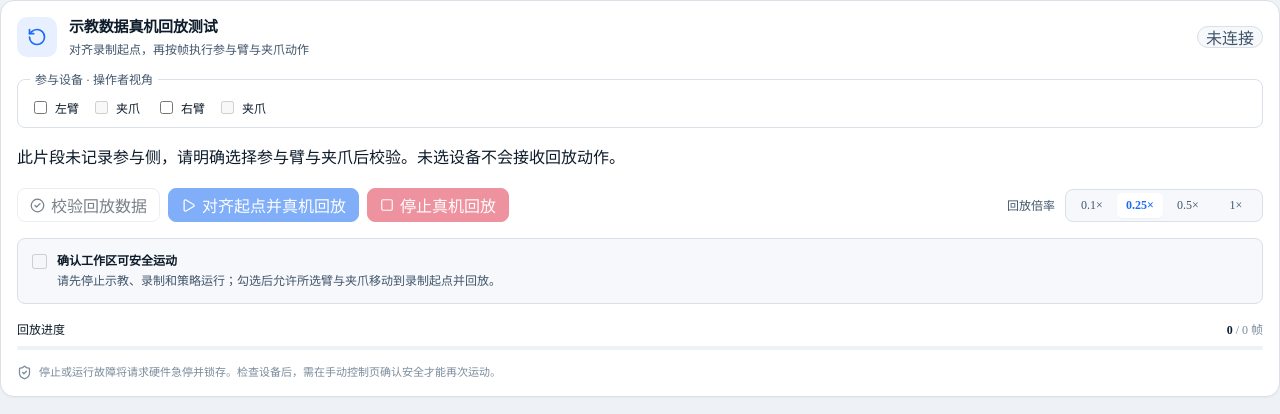
requires explicit legacy selection and resets validation after changing devices
The width and height of the screenshot is (1280, 414).
Expected: the button "校验回放数据" is disabled, x1=17 y1=188 x2=160 y2=222
Step 1. Click the checkbox labelled "左臂" → point(40, 108), box x1=34 y1=101 x2=47 y2=114
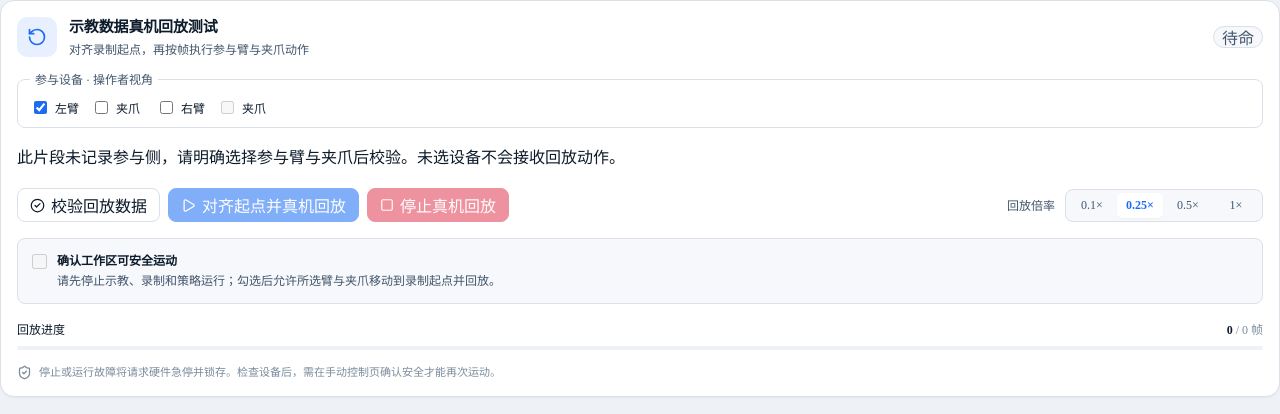
Result: the button "校验回放数据" is enabled
Step 2. Click the button "校验回放数据" → point(88, 205), box x1=17 y1=188 x2=160 y2=222
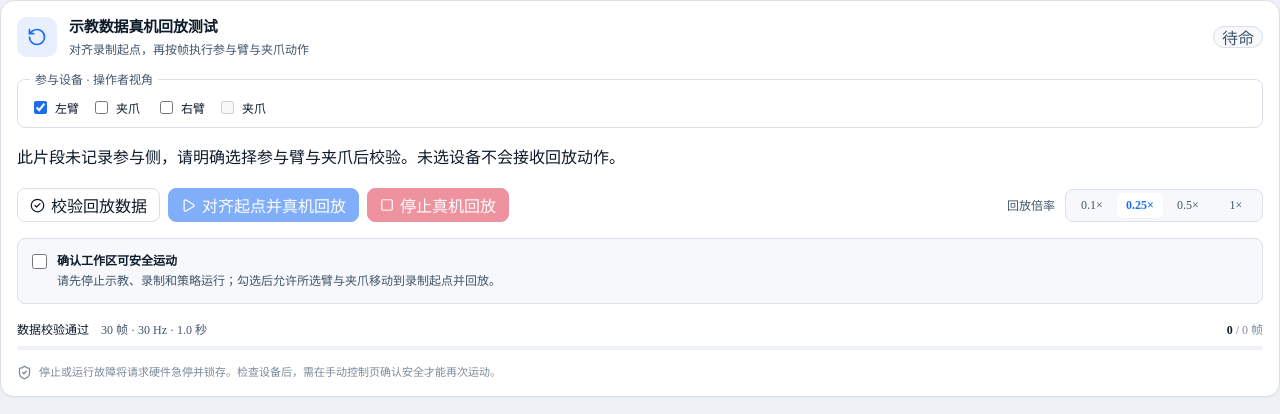
Result: the text "30 帧 · 30 Hz · 1.0 秒" is shown at x1=101 y1=323 x2=207 y2=337
Step 3. Click the checkbox labelled "确认工作区可安全运动 请先停止示教、录制和策略运行；勾选后允许所选臂与夹爪移动到录制起点并回放。" → point(40, 262), box x1=32 y1=254 x2=47 y2=269
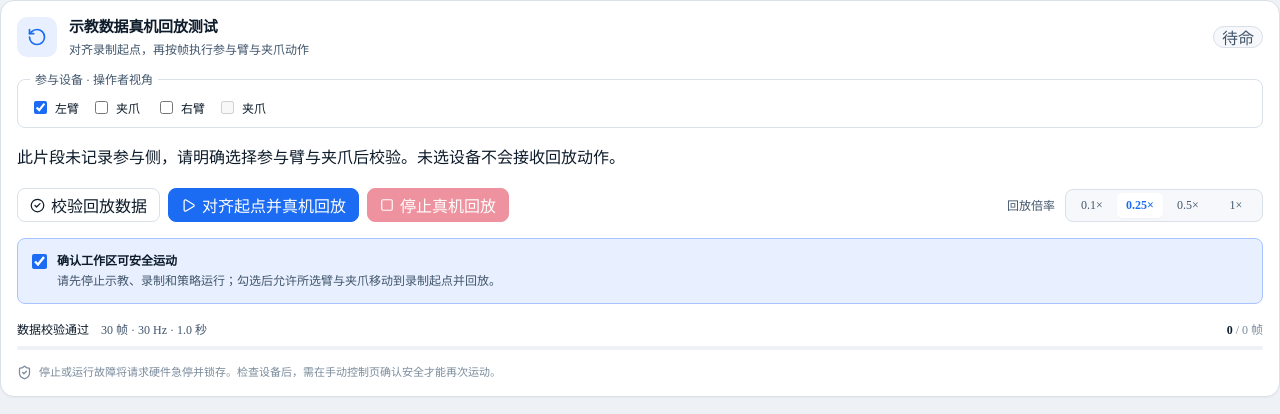
Result: the button "对齐起点并真机回放" is enabled at x1=168 y1=188 x2=359 y2=222
Step 4. Click the checkbox named "左夹爪参与" → point(102, 108), box x1=95 y1=101 x2=108 y2=114
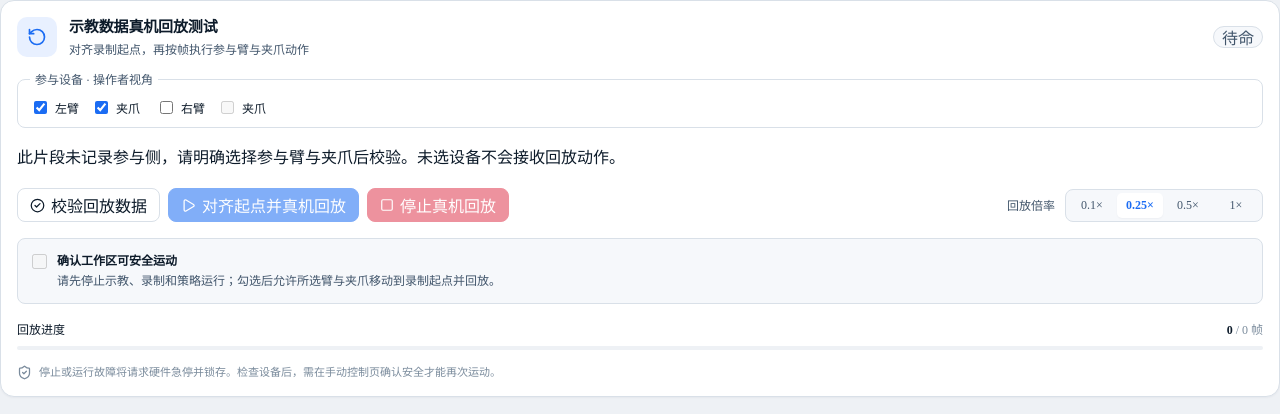
Result: the checkbox labelled "确认工作区可安全运动 请先停止示教、录制和策略运行；勾选后允许所选臂与夹爪移动到录制起点并回放。" is not checked at x1=32 y1=254 x2=47 y2=269
Result: the button "对齐起点并真机回放" is disabled at x1=168 y1=188 x2=359 y2=222
